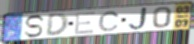0: (151, 6, 174, 29)
C: (98, 11, 121, 33)
D: (44, 13, 70, 37)
E: (73, 10, 97, 35)
J: (127, 6, 151, 32)
S: (23, 15, 46, 39)
